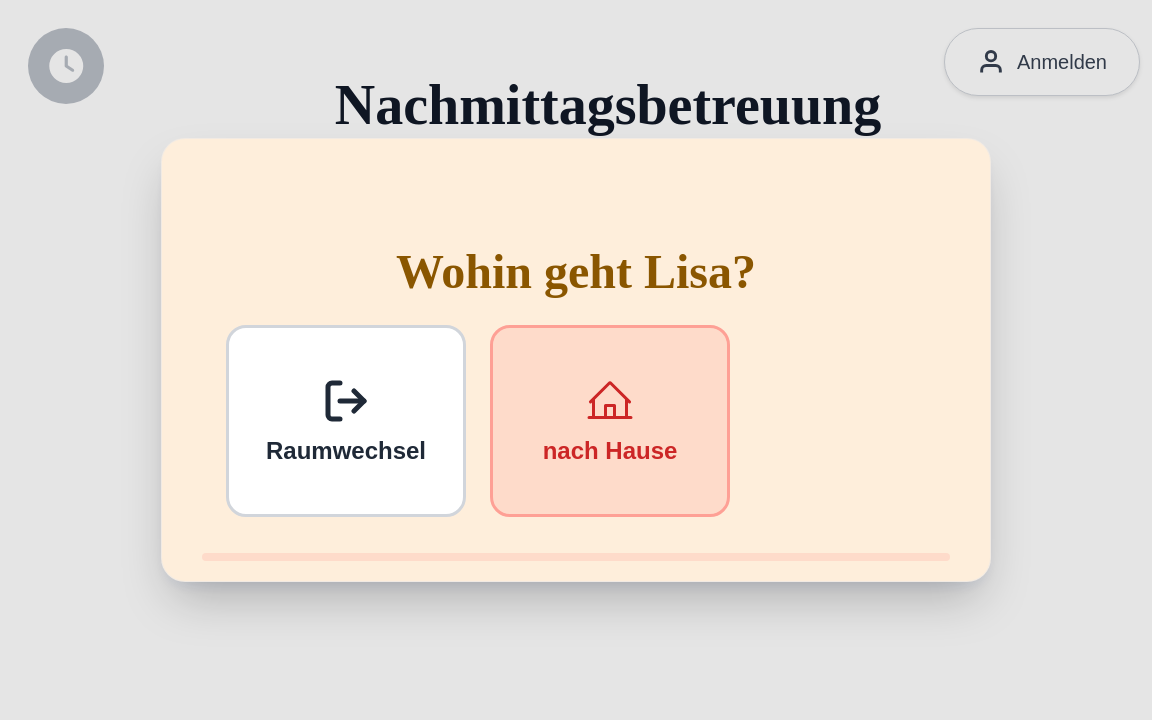
Scenario: Scan page (checked_out) › skips feedback and shows farewell when backend disables feedback
Click the button "nach Hause" at (610, 421), box top-left (490, 325), bottom-right (730, 517)
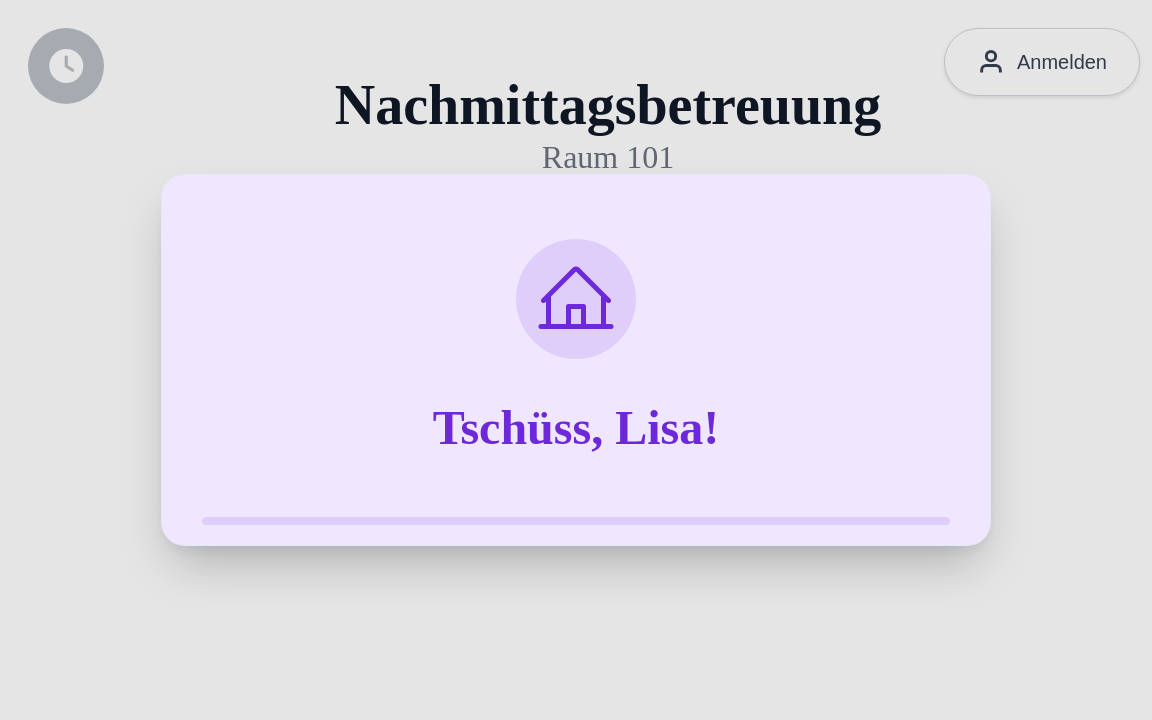
Expected: the icon is shown, top-left (536, 259), bottom-right (616, 339)
Result: the heading "Tschüss, Lisa!" is shown at top-left (433, 401), bottom-right (719, 454)
